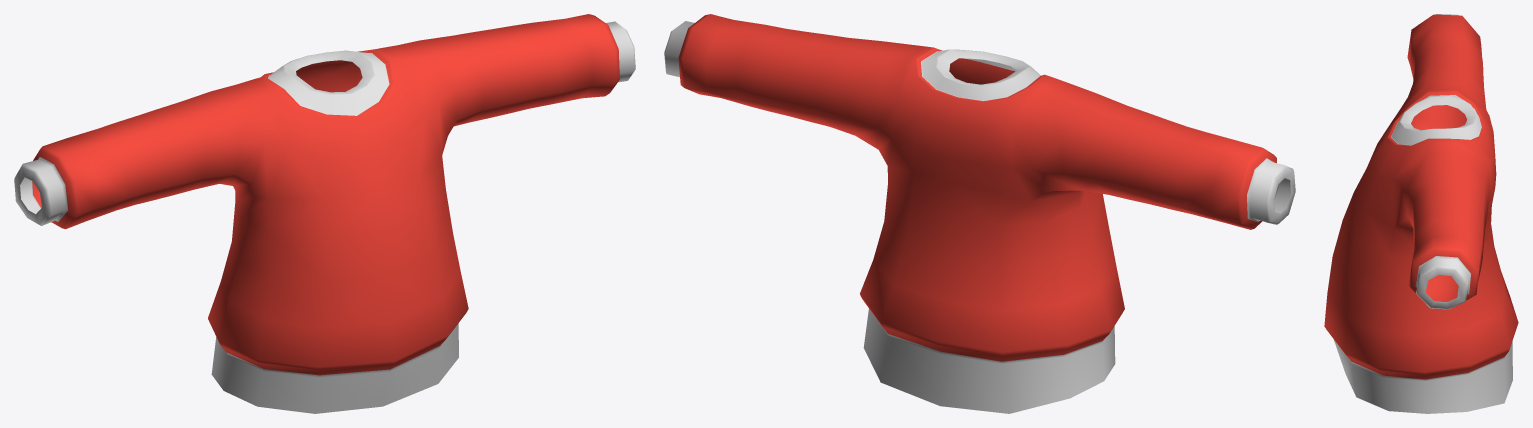
File: Outerwear_Red_004.glb
3 renders of one model, left to right at view 1: azimuth 30°, elevation 25°; view 2: azimuth 150°, elevation 25°; view 3: azimuth 270°, elevation 25°, orthographic. The views are drawn at different scales.
Visible parts, largest first — view 1: Outerwear_Red_004; view 2: Outerwear_Red_004; view 3: Outerwear_Red_004.
Boxes of the visible parts, box(x1,y1,x2,y2) form: Outerwear_Red_004: box(14, 14, 635, 413); Outerwear_Red_004: box(664, 14, 1295, 413); Outerwear_Red_004: box(1324, 14, 1518, 413).
Size of the model in its own units: 1.29 by 0.637 by 0.4186.
1 material, 1 textured.
